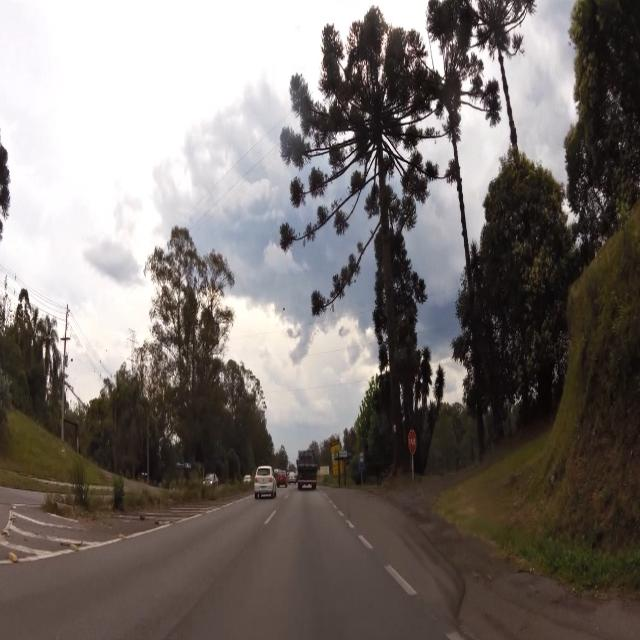R-1: (407, 429, 418, 456)
S-14: (360, 450, 364, 470)
